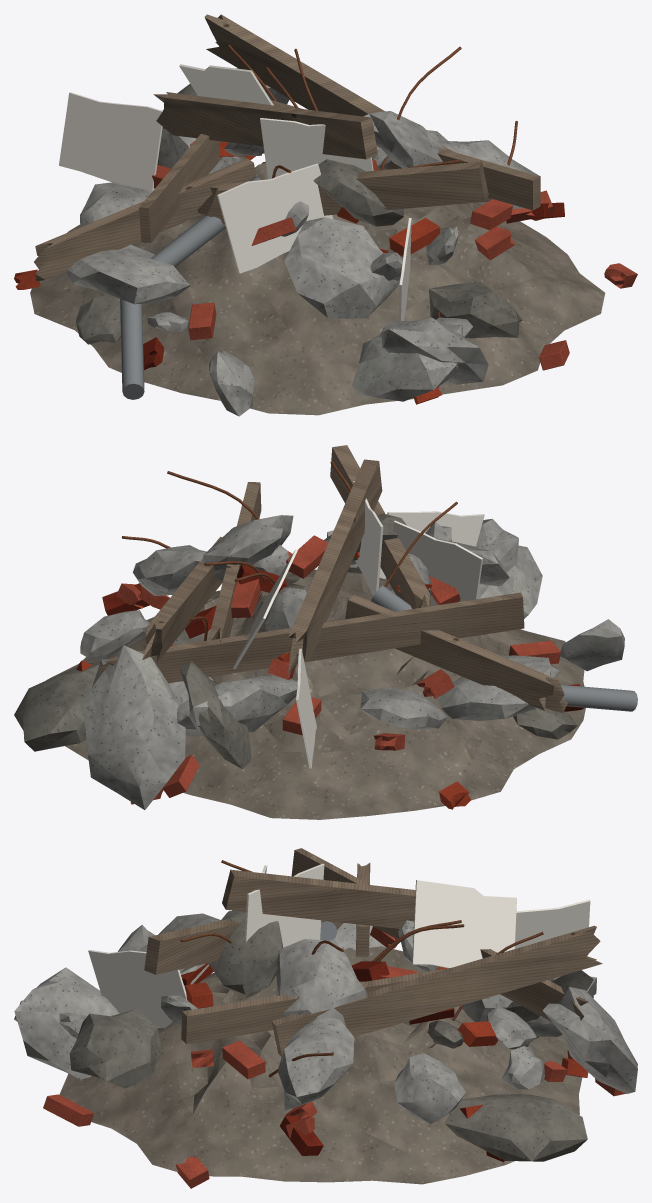
File: demolition-debris-mound.glb
3 views of the same model, one above another, from view 1: azimuth 30°, elevation 25°; view 2: azimuth 150°, elevation 25°; view 3: azimuth 270°, elevation 25° (orthographic). The views are drawn at different scales.
Parts seen in each view (by area): view 1: Demolition_Debris_Mound; view 2: Demolition_Debris_Mound; view 3: Demolition_Debris_Mound.
Boxes of the visible parts, x1,y1,x2,y2 form: Demolition_Debris_Mound: [14, 14, 637, 416]; Demolition_Debris_Mound: [14, 445, 637, 819]; Demolition_Debris_Mound: [14, 848, 637, 1188].
Bounding box in the file's own units: 2.69 × 1.05 × 2.94.
10 materials, 8 textured.
